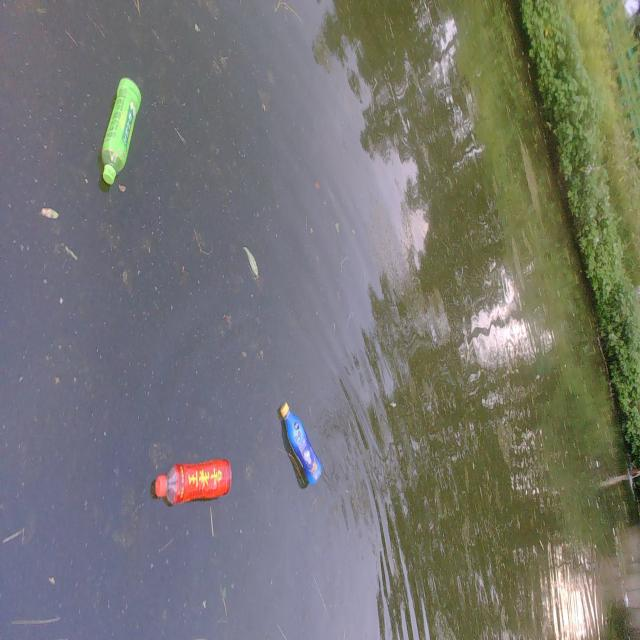Bottle: (98, 75, 143, 188), (150, 455, 234, 507), (278, 396, 324, 488)
